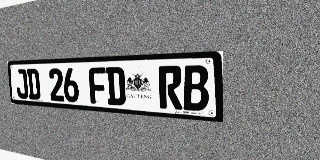2: (48, 68, 64, 102)
6: (62, 68, 79, 103)
B: (183, 65, 209, 112)
D: (106, 67, 126, 106), (26, 69, 41, 100)
F: (88, 67, 107, 105)
J: (15, 69, 29, 99)
R: (158, 66, 183, 110)
